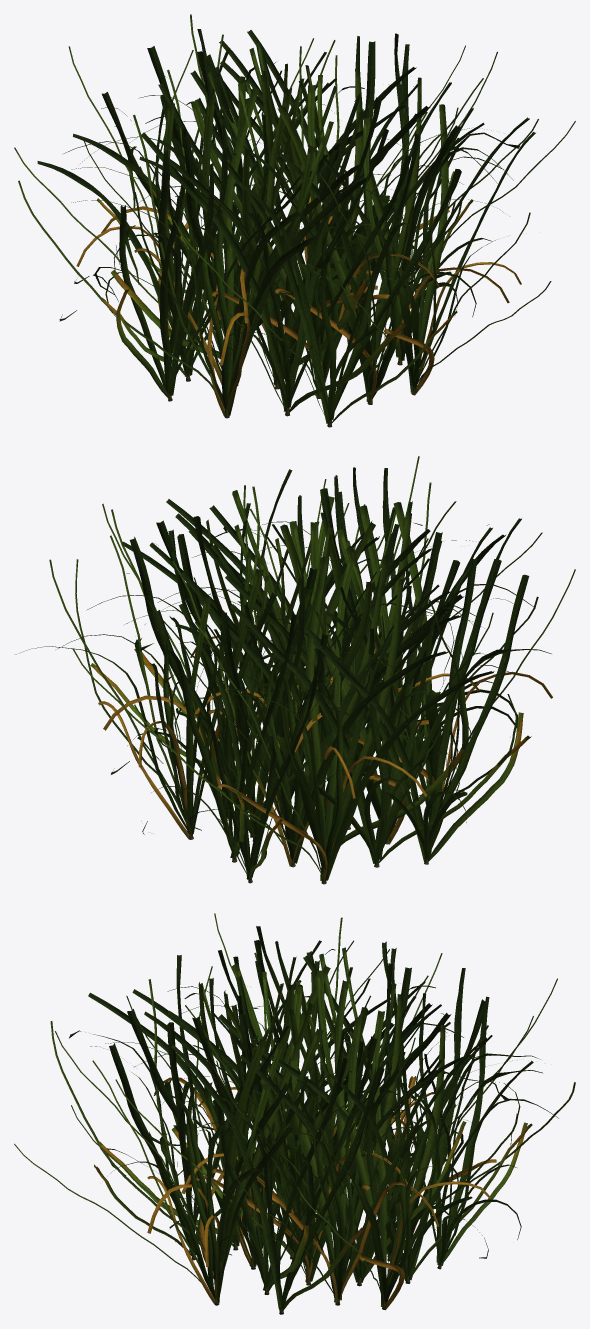
File: Cocksfoot_Clump_02.fbx
The picture shows the model from 3 angles, top to bottom: view 1: azimuth 30°, elevation 25°; view 2: azimuth 150°, elevation 25°; view 3: azimuth 270°, elevation 25°; orthographic projection. The views are drawn at different scales.
Parts seen in each view (by area): view 1: Cocksfoot_Clump_02; view 2: Cocksfoot_Clump_02; view 3: Cocksfoot_Clump_02.
Part boxes in pixels (<box>): Cocksfoot_Clump_02: <box>14,14,575,427</box>; Cocksfoot_Clump_02: <box>15,456,575,884</box>; Cocksfoot_Clump_02: <box>14,913,575,1314</box>.
Bounding box in the file's own units: 100 × 61.03 × 107.
6 materials, 6 textured.
